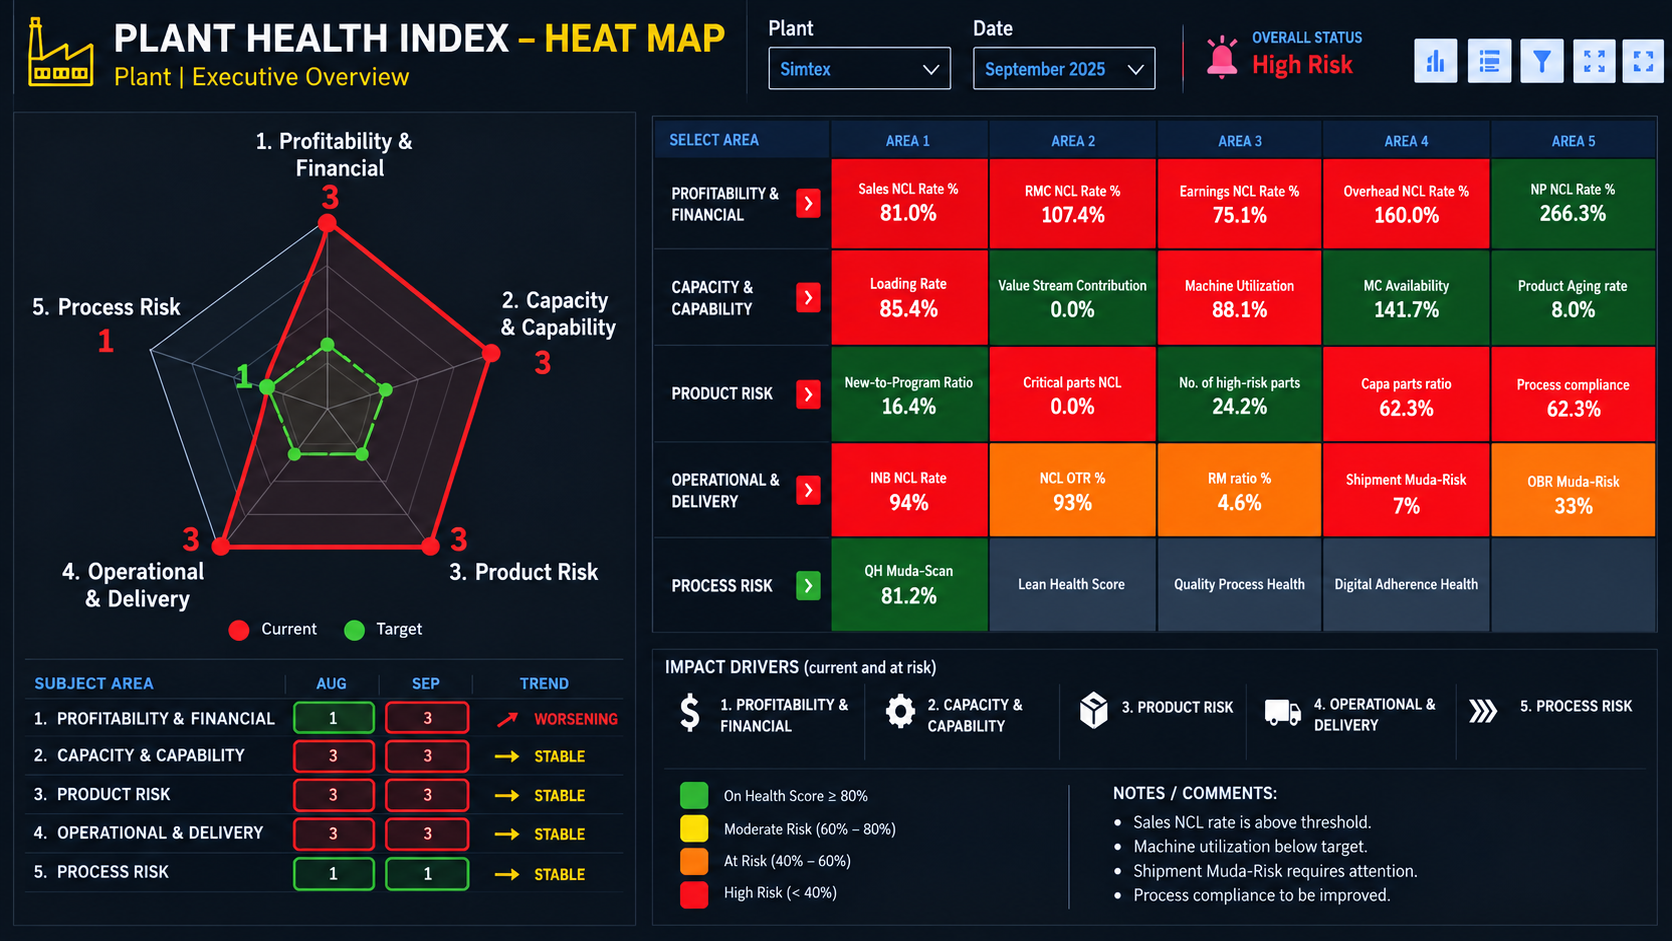

The dashboard page shown, as its layout file describes it:
{"tool":"powerbi","page":{"name":"Page 1","canvas":[1920,1080],"ordinal":0},"visuals":[{"type":"slicer","fields":{"Values":["MetricData.Plant"]},"box":[1133.7,20.9,237.2,153.5],"z":0},{"type":"slicer","fields":{"Values":["DateTable.Year","DateTable.Month"]},"box":[1381.4,19.2,209.3,102.9],"z":1000},{"type":"polarB605C239BFD9BFED71A7A3BE1340EFEB","fields":{"col_0":["MetricData.Subject Area"],"col_1":["MetricData.Target-Score"],"col_2":["MetricData.Current Score"]},"box":[56.9,808.3,408.1,87],"z":2000},{"type":"htmlContent443BE3AD55E043BF878BED274D3A6855","fields":{"content":["MetricData.Plant Heatmap HTML"]},"box":[734.3,116.9,1186,612.2],"z":3000},{"type":"htmlContent443BE3AD55E043BF878BED274D3A6855","fields":{"content":["MetricData.Subject Area Trend HTML"]},"box":[12.7,746.6,721.3,333.7],"z":3001},{"type":"htmlContent443BE3AD55E043BF878BED274D3A6855","fields":{"content":["MetricData.Plant Health Radar HTML"]},"box":[27.9,129.1,694.2,617.4],"z":3003},{"type":"htmlContent443BE3AD55E043BF878BED274D3A6855","fields":{"content":["MetricData.Overall Status HTML"]},"box":[1606.4,0,294.8,116.9],"z":3004},{"type":"htmlContent443BE3AD55E043BF878BED274D3A6855","fields":{"content":["AreaSummary.Impact Drivers HTML"]},"box":[746.5,729.1,1154.7,336.6],"z":3005}]}

Visuals, with their boxes in screenshot pixels (x1, y1, x2, y2), scaled from the page's 1920x1080 canvas onto the 1672x941 screenshot:
slicer - MetricData.Plant: 987,18,1194,152
slicer - DateTable.Year x DateTable.Month: 1203,17,1385,106
polarB605C239BFD9BFED71A7A3BE1340EFEB - MetricData.Subject Area x MetricData.Target-Score: 50,704,405,780
htmlContent443BE3AD55E043BF878BED274D3A6855 - MetricData.Plant Heatmap HTML: 639,102,1671,635
htmlContent443BE3AD55E043BF878BED274D3A6855 - MetricData.Subject Area Trend HTML: 11,651,639,940
htmlContent443BE3AD55E043BF878BED274D3A6855 - MetricData.Plant Health Radar HTML: 24,112,629,650
htmlContent443BE3AD55E043BF878BED274D3A6855 - MetricData.Overall Status HTML: 1399,0,1656,102
htmlContent443BE3AD55E043BF878BED274D3A6855 - AreaSummary.Impact Drivers HTML: 650,635,1656,929
